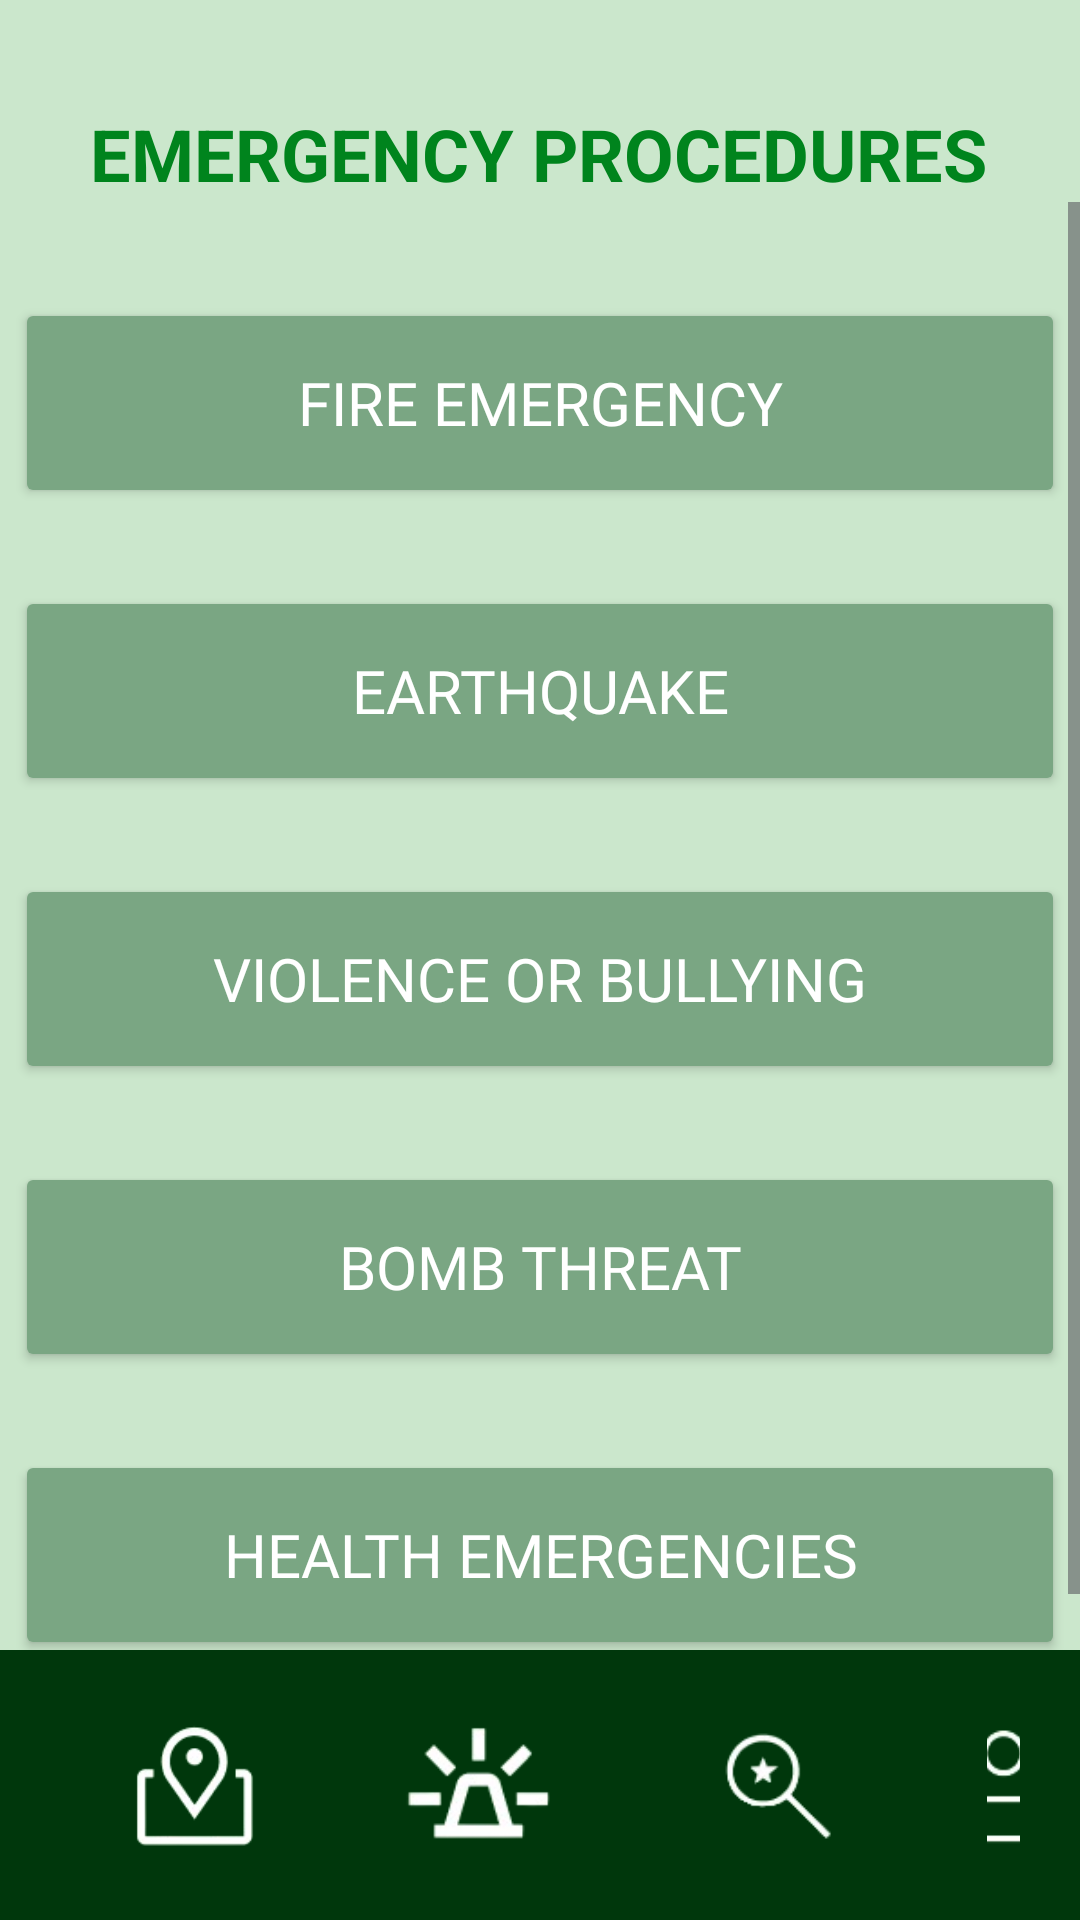

Screen size 1080px×1920px. Icon name, then its center in pixels as (x,y):
Campus Map: (195,1786)
Emergency: (479,1783)
